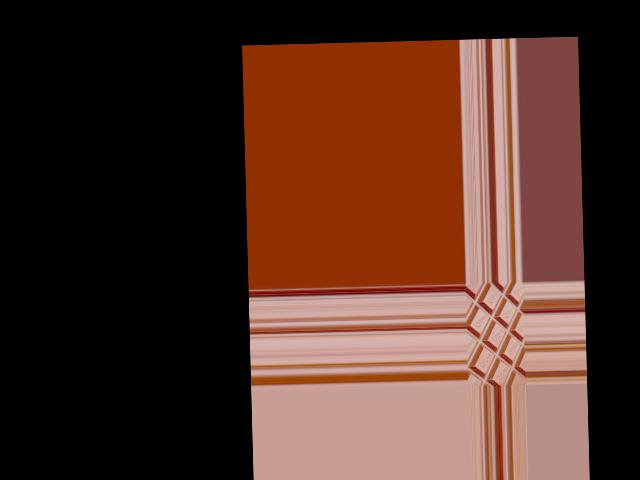chocolate: (464, 284, 523, 386)
